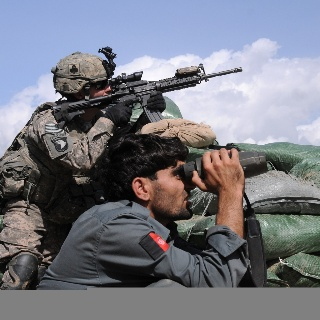rifle: (51, 44, 244, 125)
